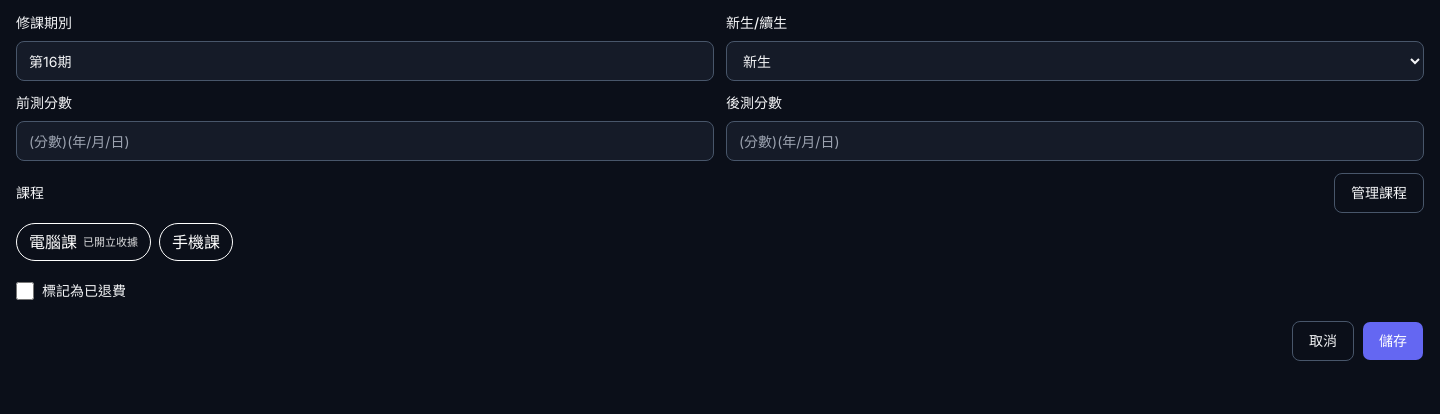
Test case: EnrollmentEditForm › keeps selected tags retryable and displays an inline save error
The image size is (1440, 414).
Click the button "手機課" at (196, 242), box [159,223,233,261]
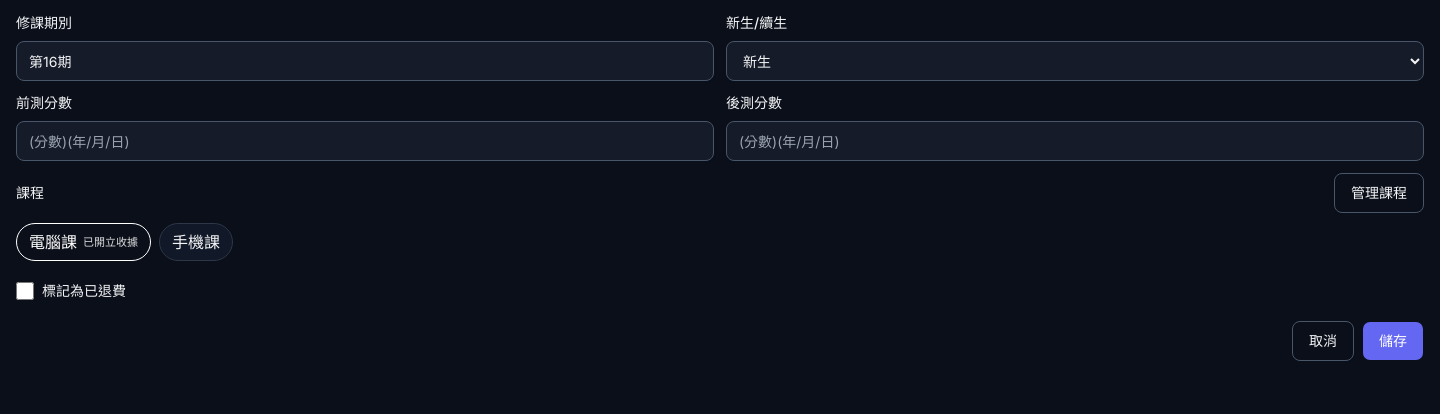
Click the button "儲存" at (1393, 341), box [1362,321,1424,361]
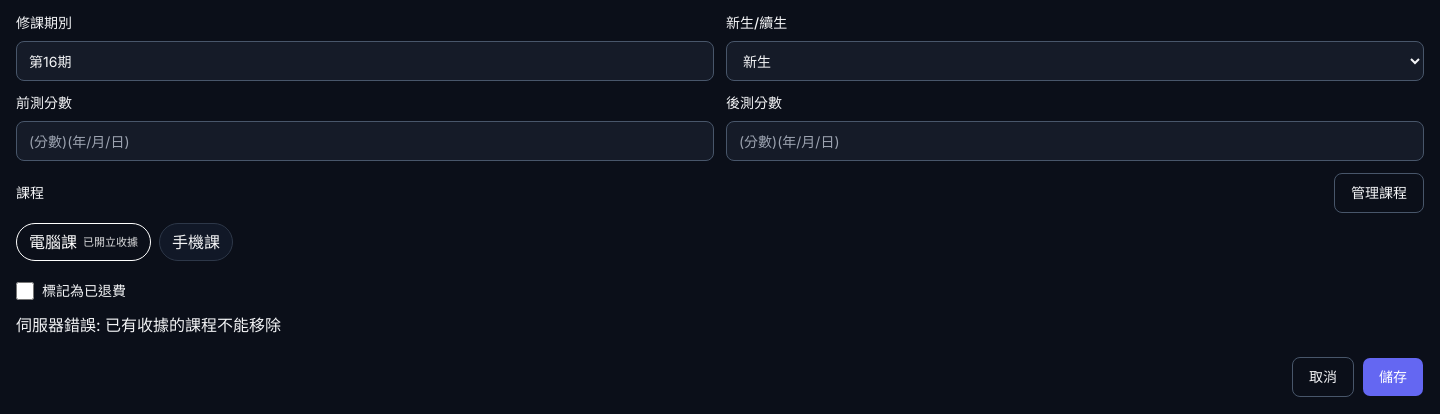
Expected: the button "電腦課 已開立收據" is disabled, [16,223,151,261]
Now the message shows "已有收據的課程不能移除", box [16,315,281,335]
